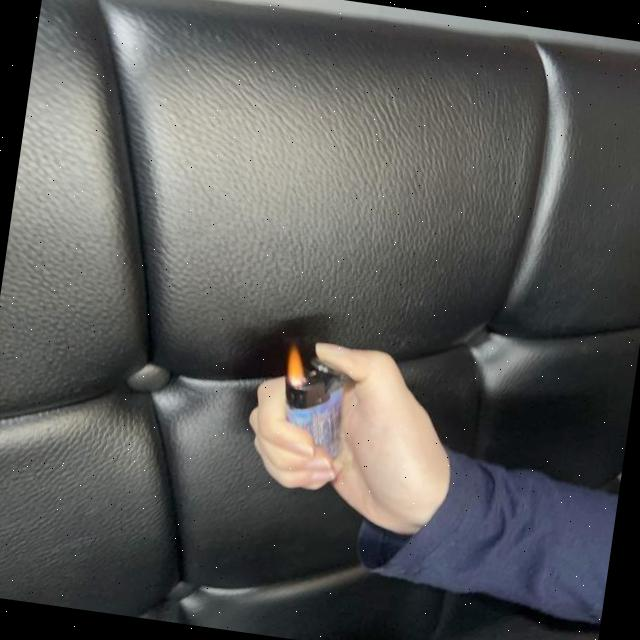fire: (284, 343, 310, 389)
